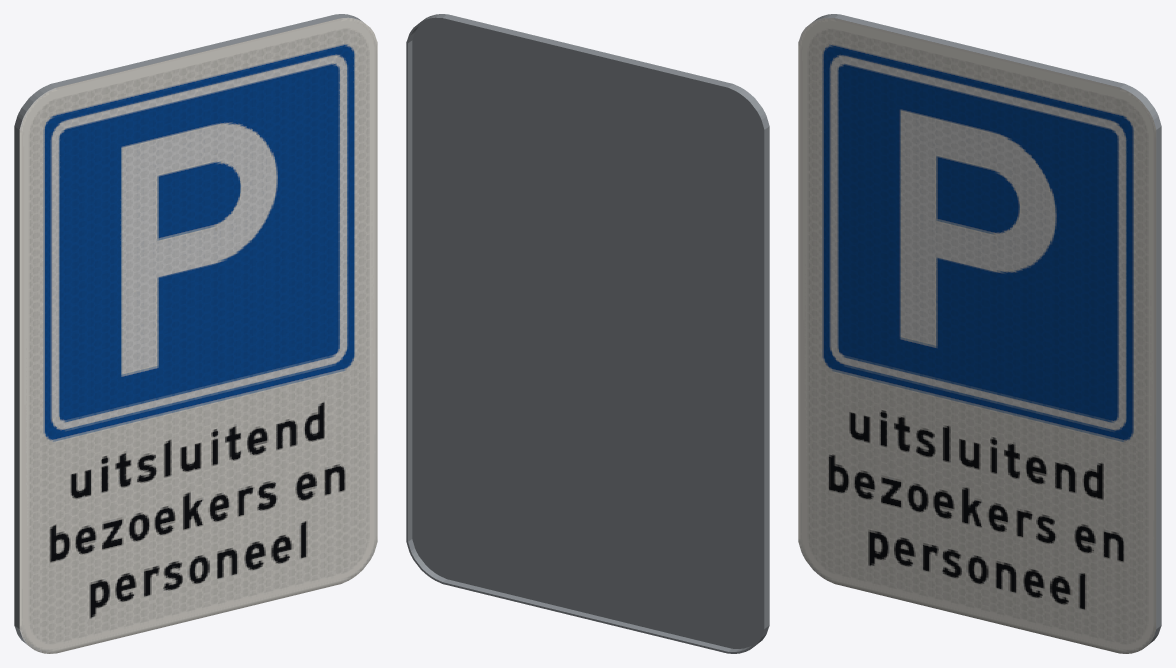
The picture shows the model from 3 angles, left to right: view 1: azimuth 30°, elevation 25°; view 2: azimuth 150°, elevation 25°; view 3: azimuth 330°, elevation 25°; orthographic projection.
Parts seen in each view (by area): view 1: cat_43a69160abe4dd59; view 2: cat_43a69160abe4dd59; view 3: cat_43a69160abe4dd59.
Boxes of the visible parts, bbox=[...] form: cat_43a69160abe4dd59: bbox=[14, 14, 377, 653]; cat_43a69160abe4dd59: bbox=[406, 14, 769, 653]; cat_43a69160abe4dd59: bbox=[798, 14, 1161, 653].
Bounding box in the file's own units: 0.6 × 0.015 × 0.9061.
2 materials, 1 textured.
